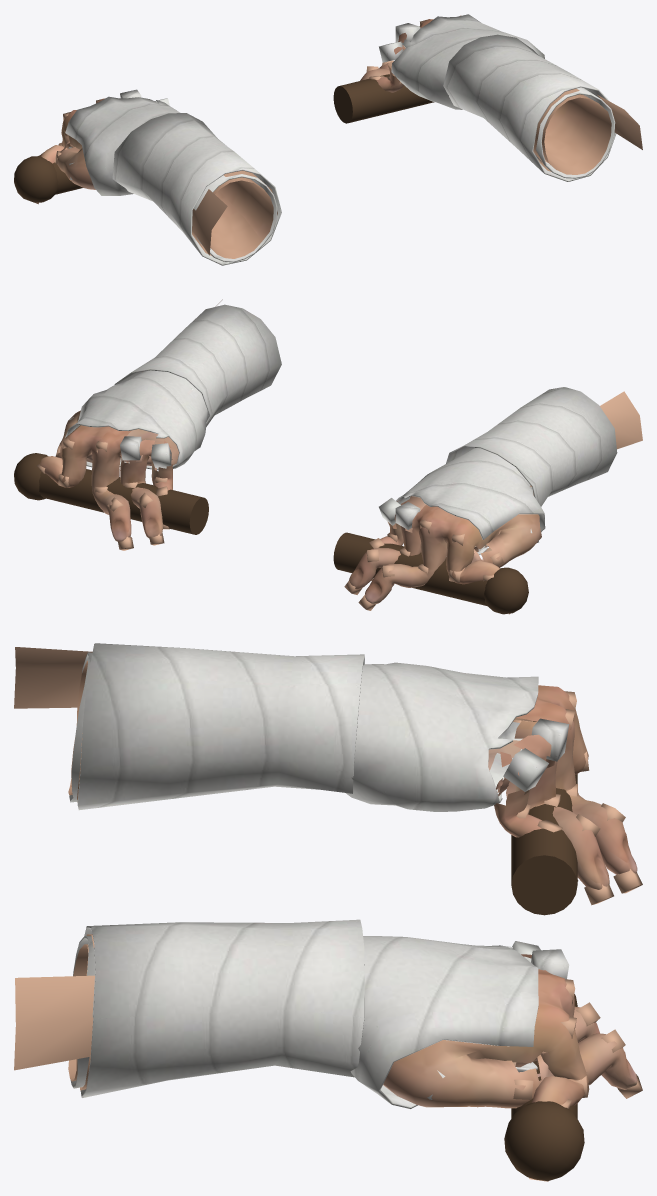
File: mani_fasce.glb
The picture shows the model from 3 angles, top to bottom: view 1: azimuth 30°, elevation 25°; view 2: azimuth 150°, elevation 25°; view 3: azimuth 270°, elevation 25°; orthographic projection. The views are drawn at different scales.
Visible parts, largest first — view 1: mano_s, mano_d; view 2: mano_d, mano_s; view 3: mano_s, mano_d.
Boxes of the visible parts, x1,y1,x2,y2 form: mano_s: (333, 14, 642, 181); mano_d: (14, 89, 281, 265); mano_d: (333, 387, 642, 614); mano_s: (14, 299, 281, 550); mano_s: (14, 919, 642, 1181); mano_d: (14, 643, 642, 915).
Size of the model in its own units: 0.4704 by 0.1053 by 0.2946.
3 materials, 2 textured.
